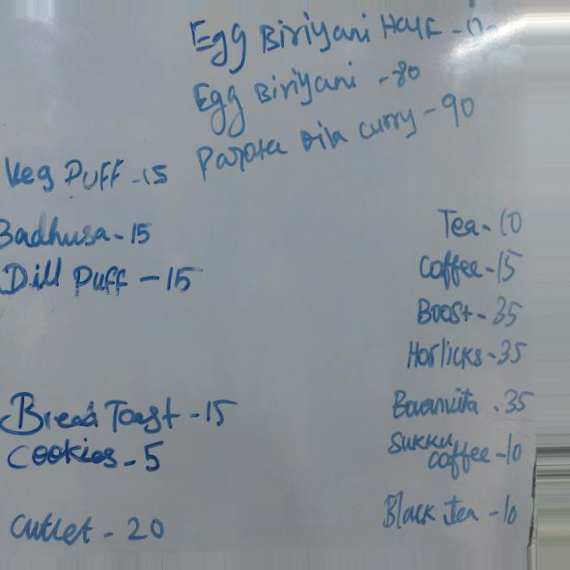Tea - 10: (430, 204, 525, 240)
badhusa -15: (1, 210, 162, 253)
black tea - 10: (380, 486, 528, 540)
boost - 35: (415, 294, 526, 334)
bournvita - 35: (388, 381, 540, 428)
bread toast - 15: (1, 392, 241, 440)
coffee - 15: (418, 250, 526, 291)
cookies - 5: (1, 436, 173, 477)
cutlet - 20: (7, 507, 179, 548)
dill puff - 15: (1, 260, 212, 300)
egg briyani - 80: (181, 61, 366, 117)
egg briyani half -50: (181, 5, 523, 56)
horlicks - 35: (407, 336, 529, 377)
parotta - 90: (187, 120, 431, 178)
sukku coffee - 10: (386, 428, 528, 483)
veg puff - 15: (1, 151, 176, 194)
